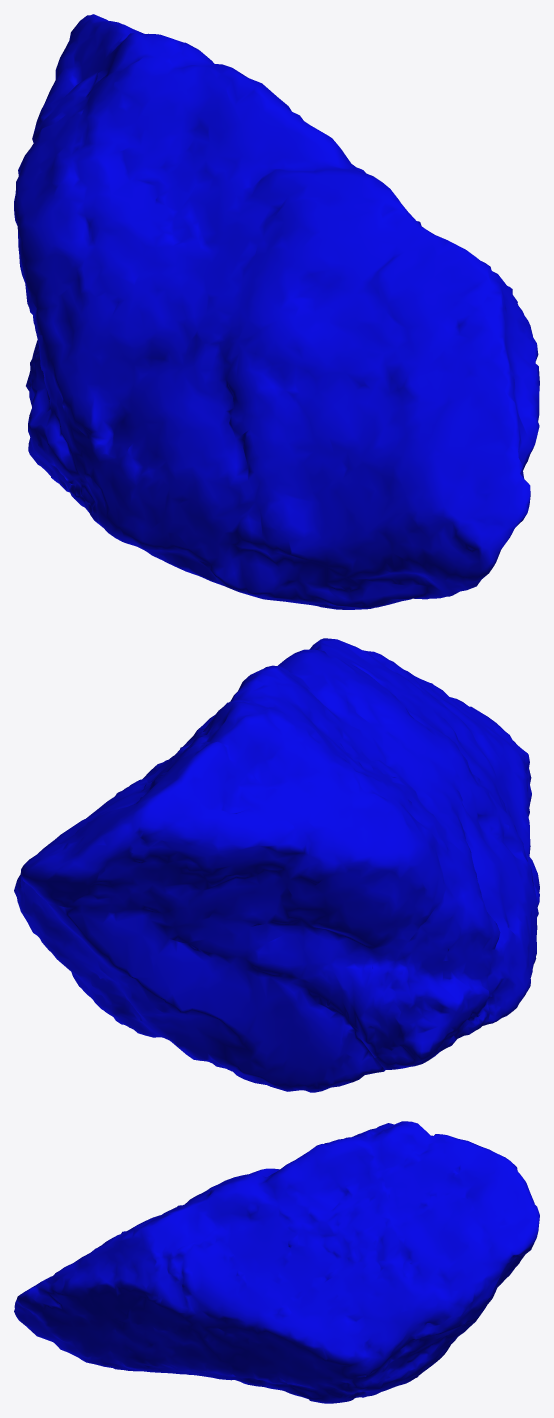
File: webrock.glb
3 renders of one model, top to bottom at view 1: azimuth 30°, elevation 25°; view 2: azimuth 150°, elevation 25°; view 3: azimuth 270°, elevation 25°, orthographic. The views are drawn at different scales.
Visible parts, largest first — view 1: Large Rock 03; view 2: Large Rock 03; view 3: Large Rock 03.
Part boxes in pixels (x1=…): Large Rock 03: x1=14, y1=14, x2=539, y2=609; Large Rock 03: x1=14, y1=638, x2=539, y2=1092; Large Rock 03: x1=14, y1=1121, x2=539, y2=1403.
Size of the model in its own units: 1.55 by 1.39 by 2.73.
